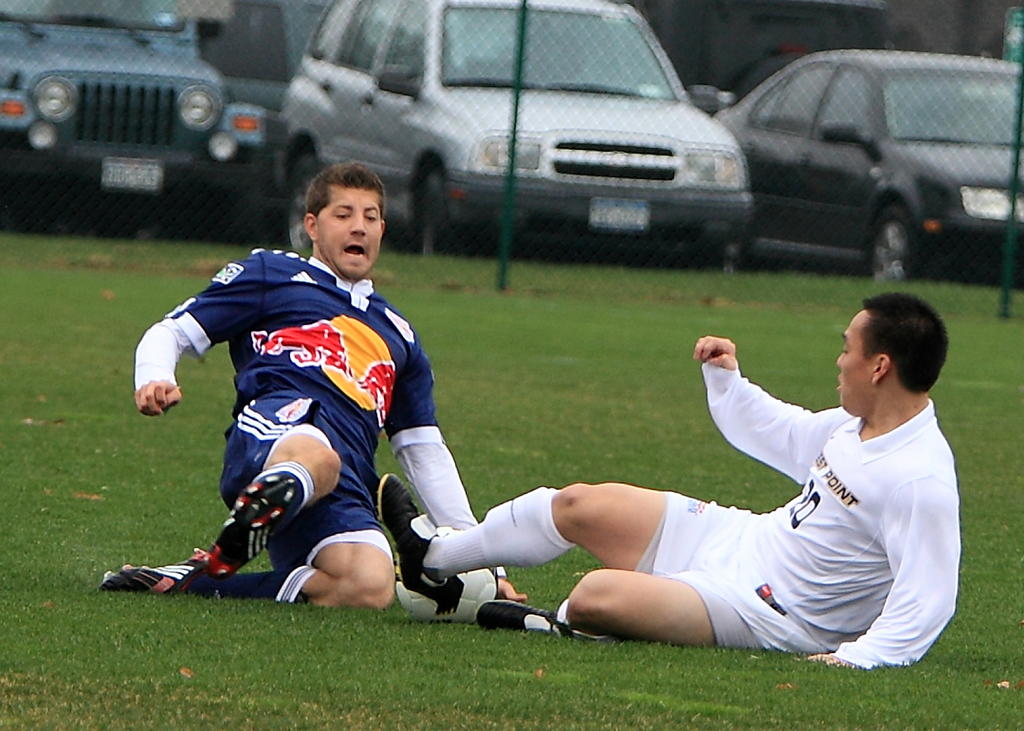Ball: (398, 566, 497, 625)
